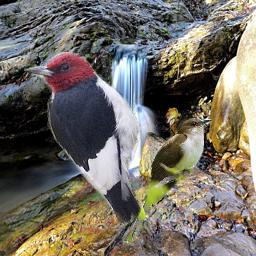Cuckoo: (126, 117, 212, 245)
Woodpecker: (24, 52, 144, 226)
